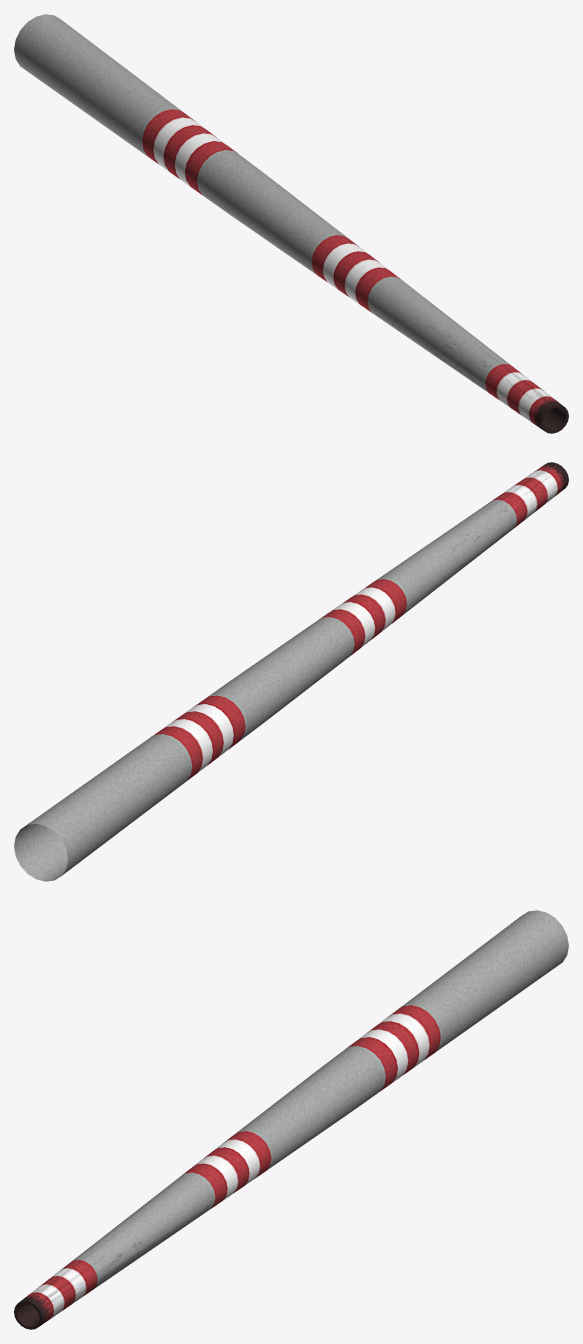
File: chimney_big.obj
The picture shows the model from 3 angles, top to bottom: view 1: azimuth 30°, elevation 25°; view 2: azimuth 150°, elevation 25°; view 3: azimuth 330°, elevation 25°; orthographic projection.
Parts seen in each view (by area): view 1: chimney_big; view 2: chimney_big; view 3: chimney_big.
Boxes of the visible parts, x1,y1,x2,y2 form: chimney_big: [14, 14, 568, 433]; chimney_big: [14, 462, 568, 881]; chimney_big: [14, 910, 568, 1329].
Size of the model in its own units: 6.08 by 5.98 by 100.
